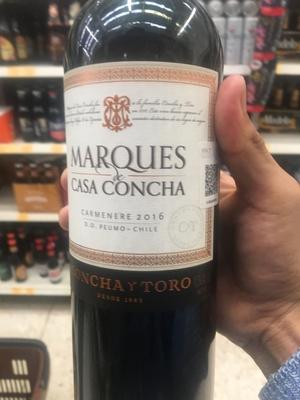marques de casa concha carmenere: (55, 12, 239, 371)
